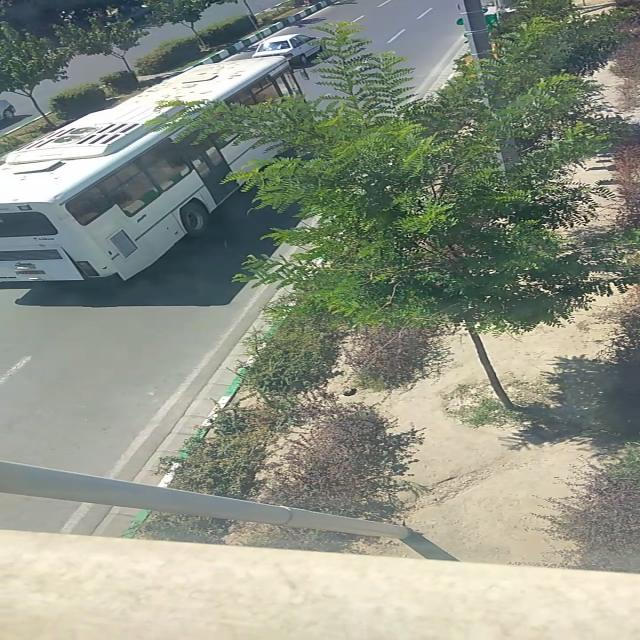bus: (0, 56, 316, 288)
car: (252, 33, 324, 65)
